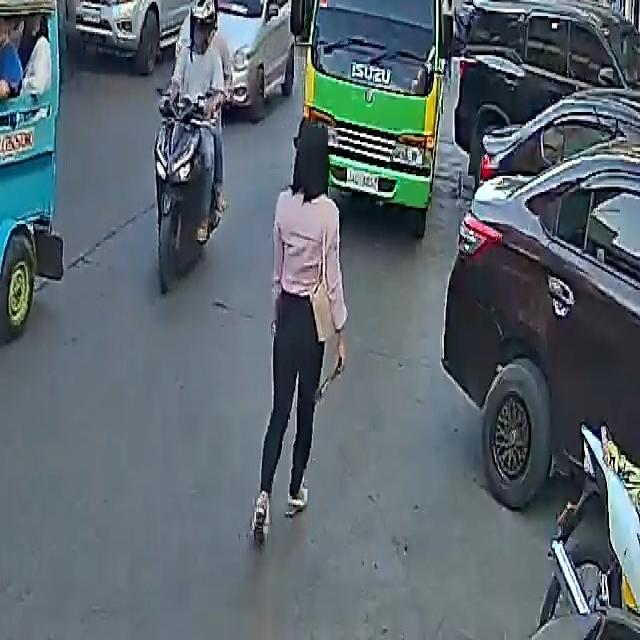car: (443, 88, 640, 525), (452, 0, 640, 187), (195, 0, 296, 110), (67, 0, 201, 75)
